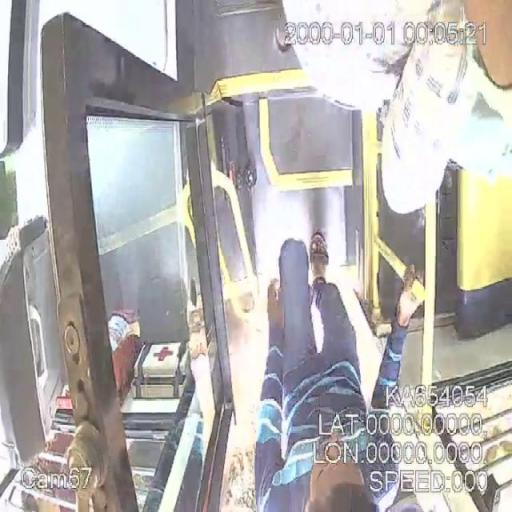persona: (252, 230, 424, 511)
